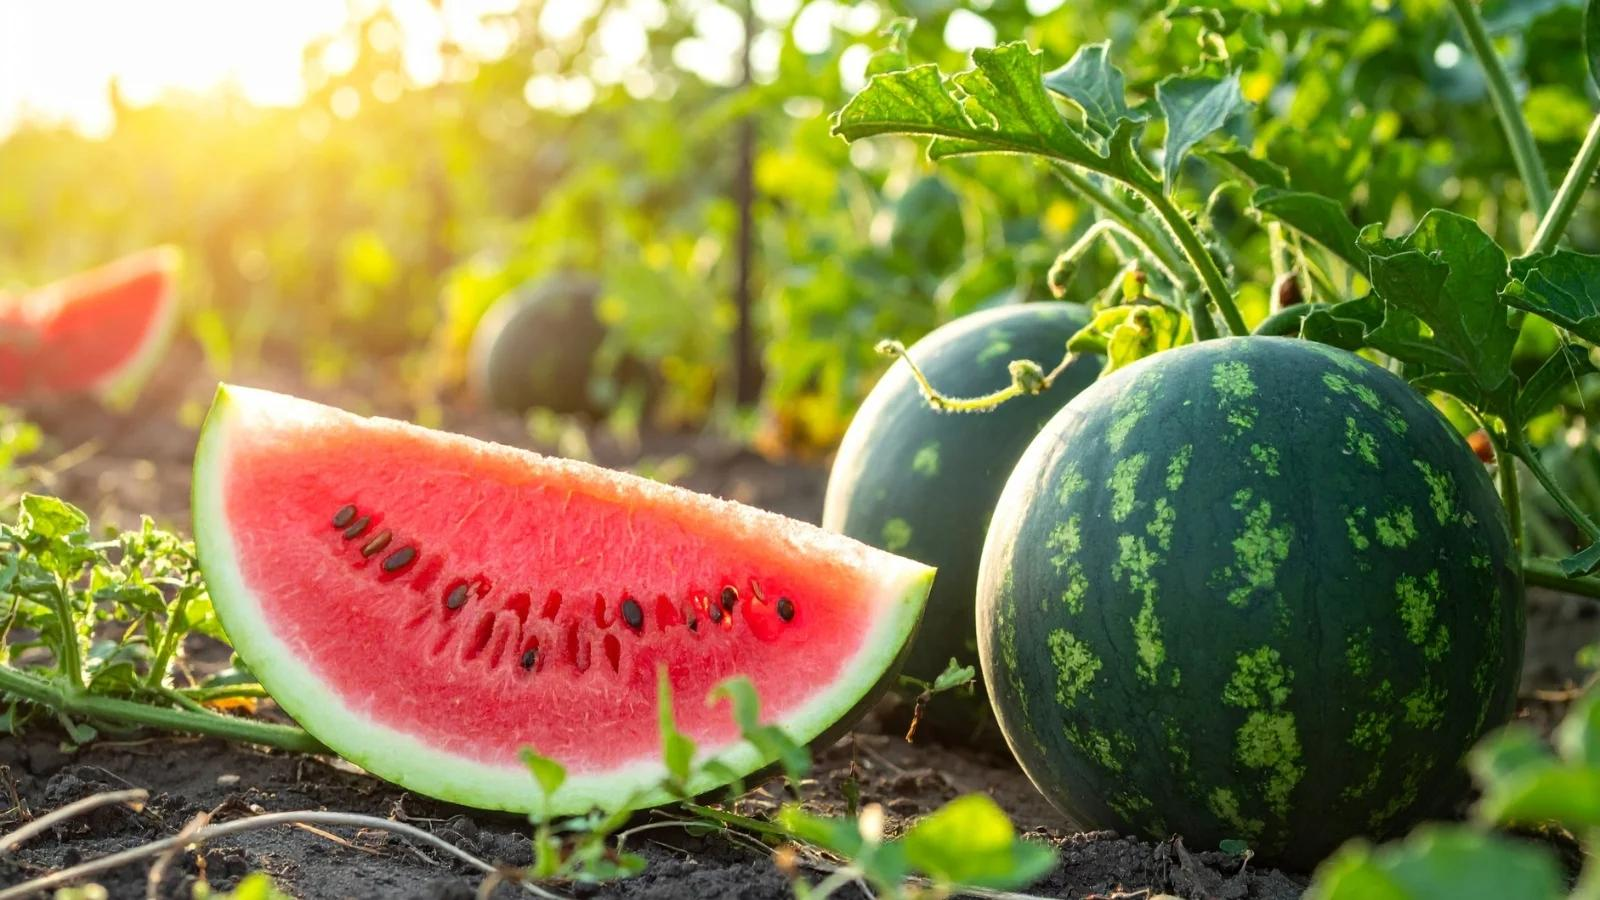watermelon: (187, 377, 962, 818), (988, 321, 1521, 866)
